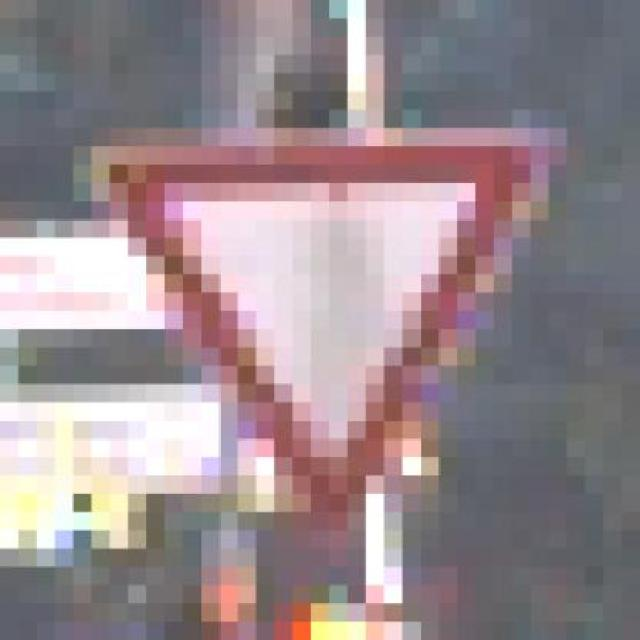Give Way: (36, 109, 604, 622)
